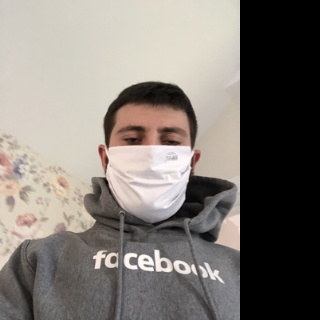with_mask: (107, 117, 192, 220)
